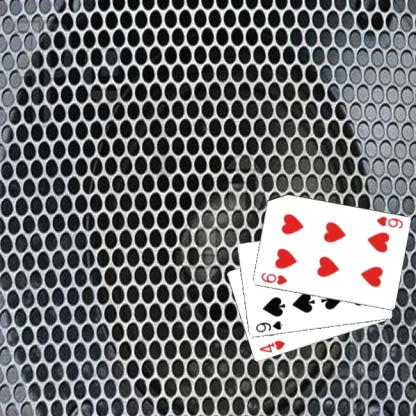4H: (256, 337, 286, 355)
6H: (373, 214, 404, 230), (258, 270, 288, 286)
9S: (253, 318, 283, 334)
